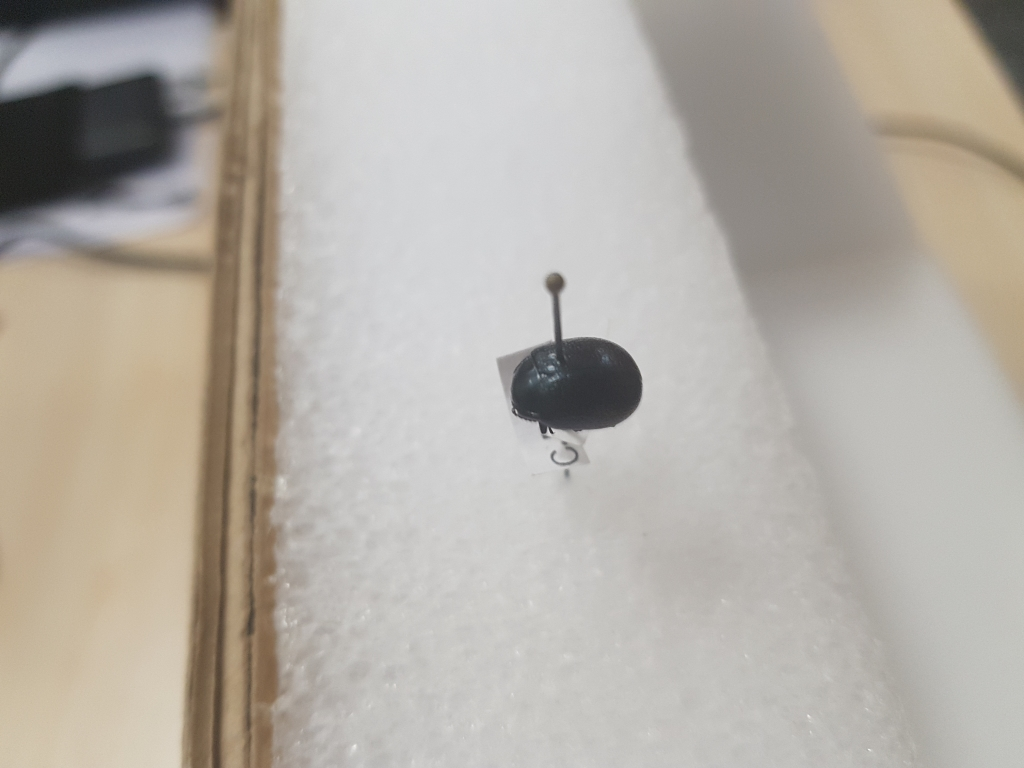Chrysolina_oricalcia: (502, 333, 645, 434)
